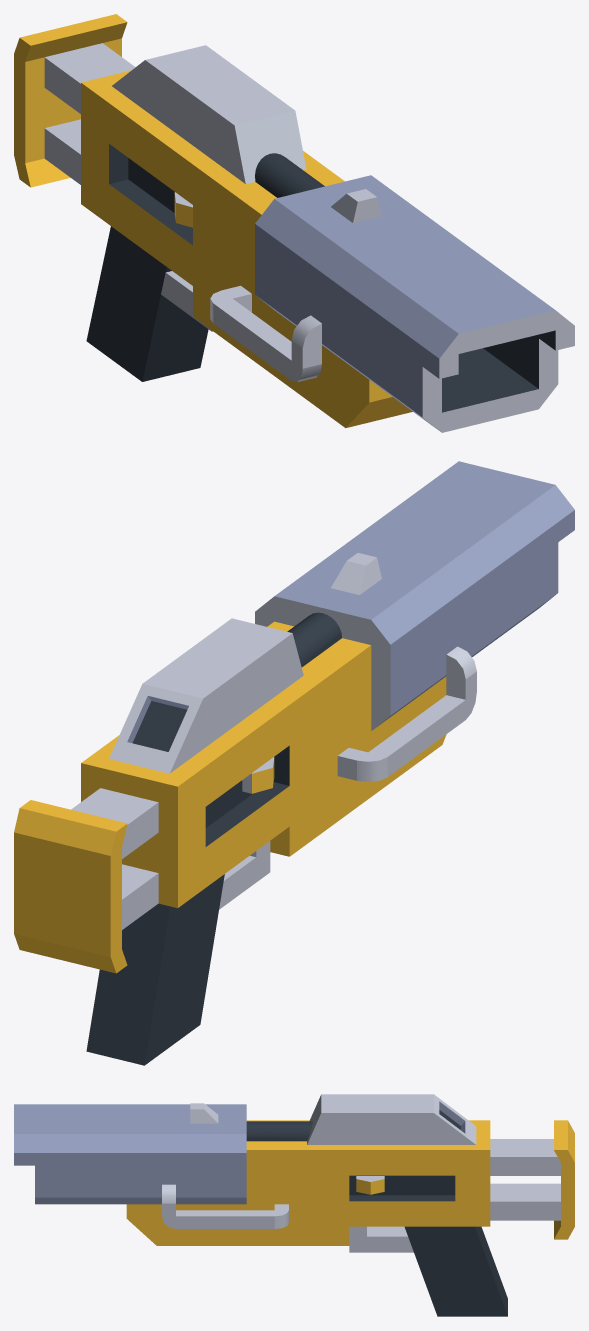
The model's file is blasterG.glb.
3 views of the same model, one above another, from view 1: azimuth 30°, elevation 25°; view 2: azimuth 150°, elevation 25°; view 3: azimuth 270°, elevation 25° (orthographic). The views are drawn at different scales.
Visible parts, largest first — view 1: blasterG; view 2: blasterG; view 3: blasterG.
Boxes of the visible parts, x1,y1,x2,y2 form: blasterG: (14,14,574,432); blasterG: (14,461,574,1065); blasterG: (14,1094,574,1316).
Size of the model in its own units: 0.18 by 0.32 by 0.7959.
